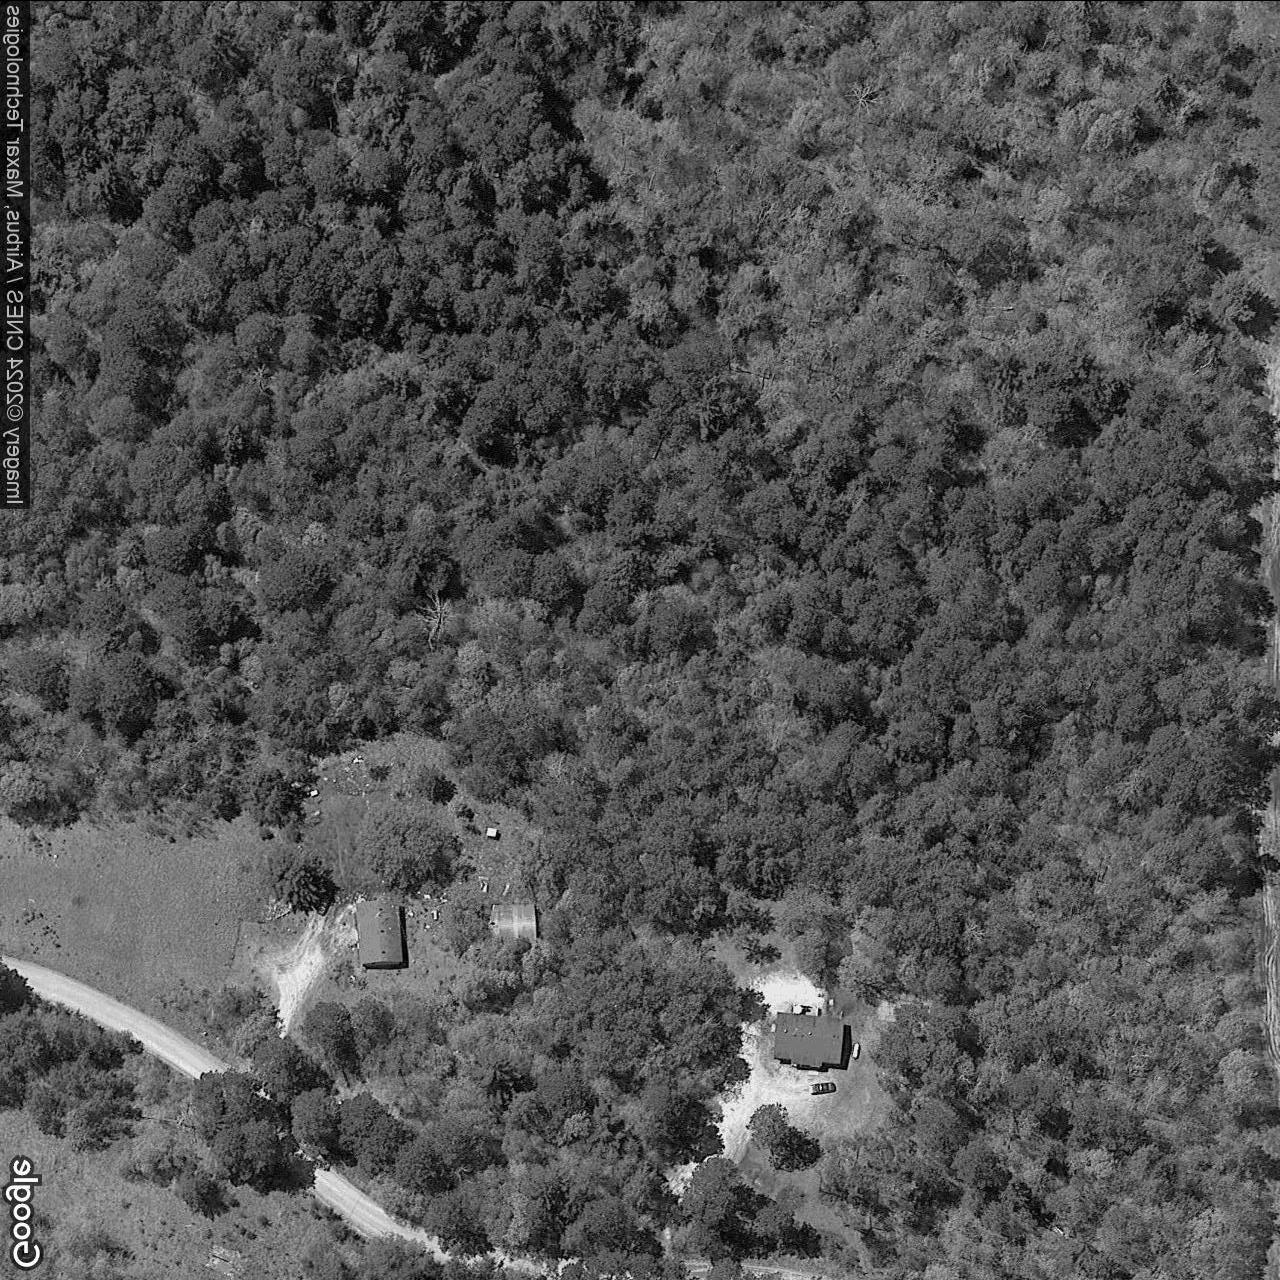Garage: (488, 901, 538, 944)
House: (774, 1009, 845, 1067), (354, 897, 403, 969)
Propane: (851, 1041, 863, 1060)
